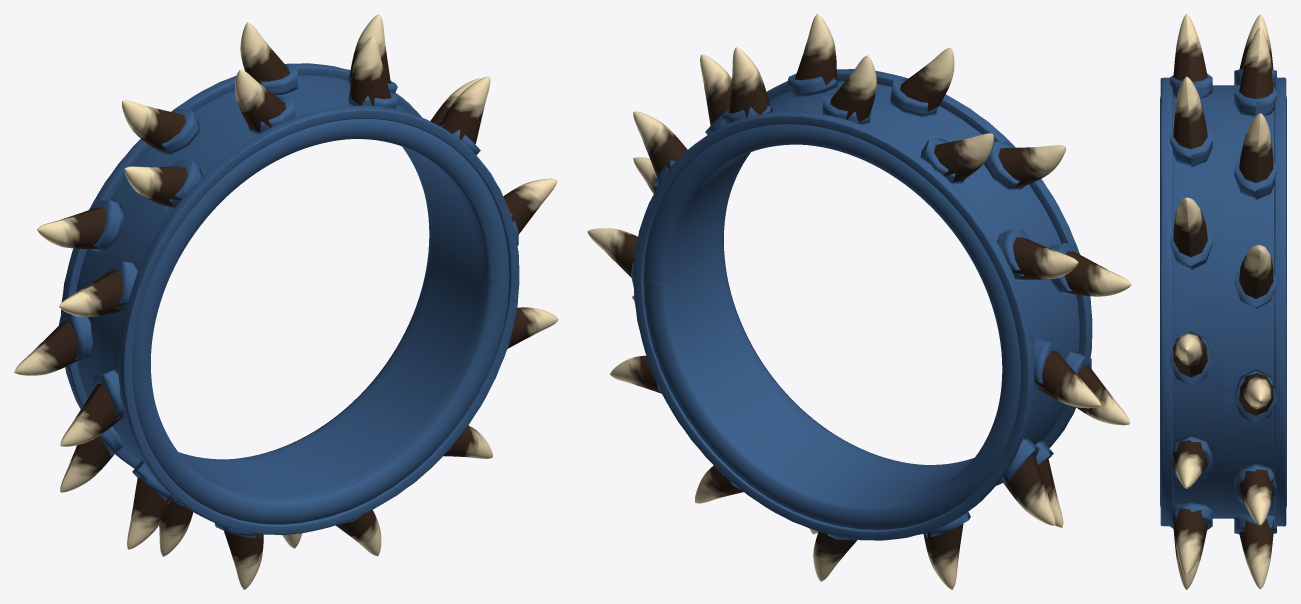
File: quillguard_ring.glb
3 renders of one model, left to right at view 1: azimuth 30°, elevation 25°; view 2: azimuth 150°, elevation 25°; view 3: azimuth 270°, elevation 25°, orthographic.
Visible parts, largest first — view 1: Worn cobalt blue forged band and sockets, Porcupine quill dark roots grading into ivory tips; view 2: Worn cobalt blue forged band and sockets, Porcupine quill dark roots grading into ivory tips; view 3: Worn cobalt blue forged band and sockets, Porcupine quill dark roots grading into ivory tips.
Part boxes in pixels (<box>): Worn cobalt blue forged band and sockets: <box>58,63,519,537</box>; Porcupine quill dark roots grading into ivory tips: <box>14,14,558,589</box>; Worn cobalt blue forged band and sockets: <box>631,69,1092,540</box>; Porcupine quill dark roots grading into ivory tips: <box>587,14,1131,589</box>; Worn cobalt blue forged band and sockets: <box>1160,69,1286,534</box>; Porcupine quill dark roots grading into ivory tips: <box>1173,14,1273,589</box>.
Size of the model in its own units: 0.0307 by 0.0307 by 0.0067.
